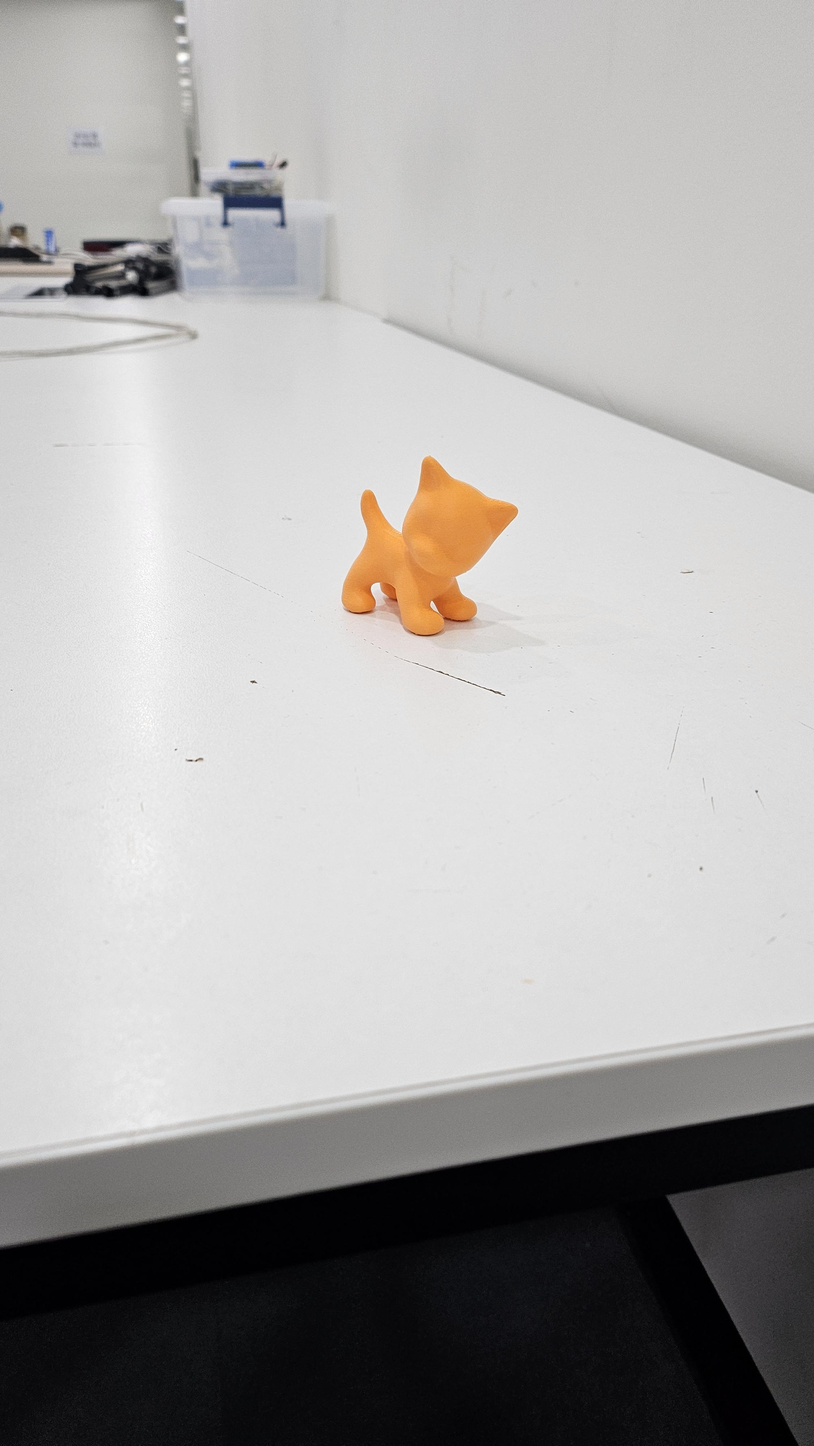cat: (336, 450, 522, 640)
